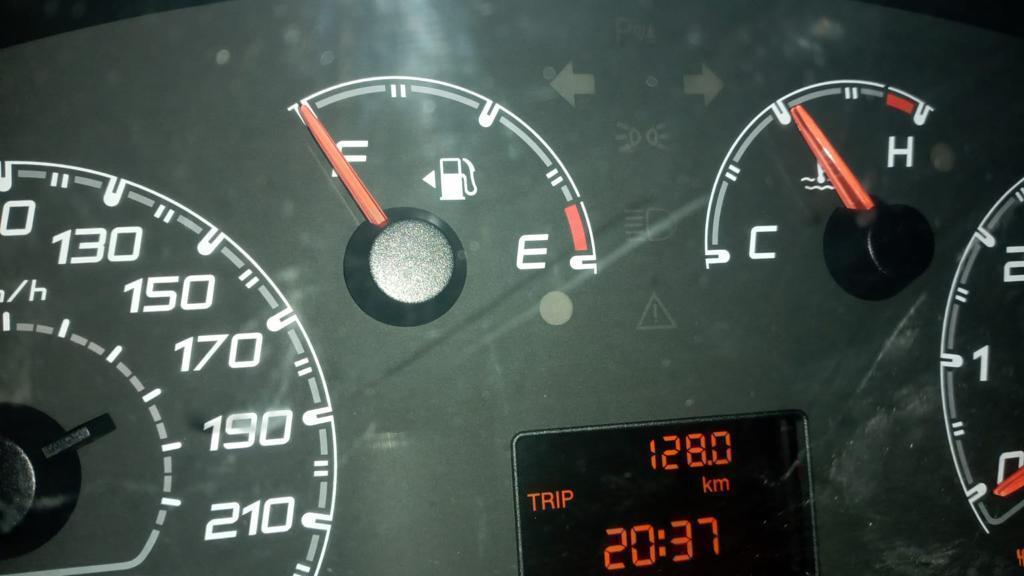,: (706, 457, 713, 468)
0: (631, 522, 656, 567), (710, 430, 733, 465)
1: (646, 437, 660, 471)
2: (601, 525, 628, 571), (660, 432, 683, 470)
3: (668, 519, 694, 562)
7: (696, 515, 722, 556)
8: (683, 432, 707, 468)
X: (522, 490, 541, 512), (656, 528, 667, 557), (560, 488, 574, 508), (541, 490, 554, 510), (712, 477, 729, 492), (700, 474, 712, 493), (554, 489, 561, 510)
odometer: (508, 404, 821, 574)
